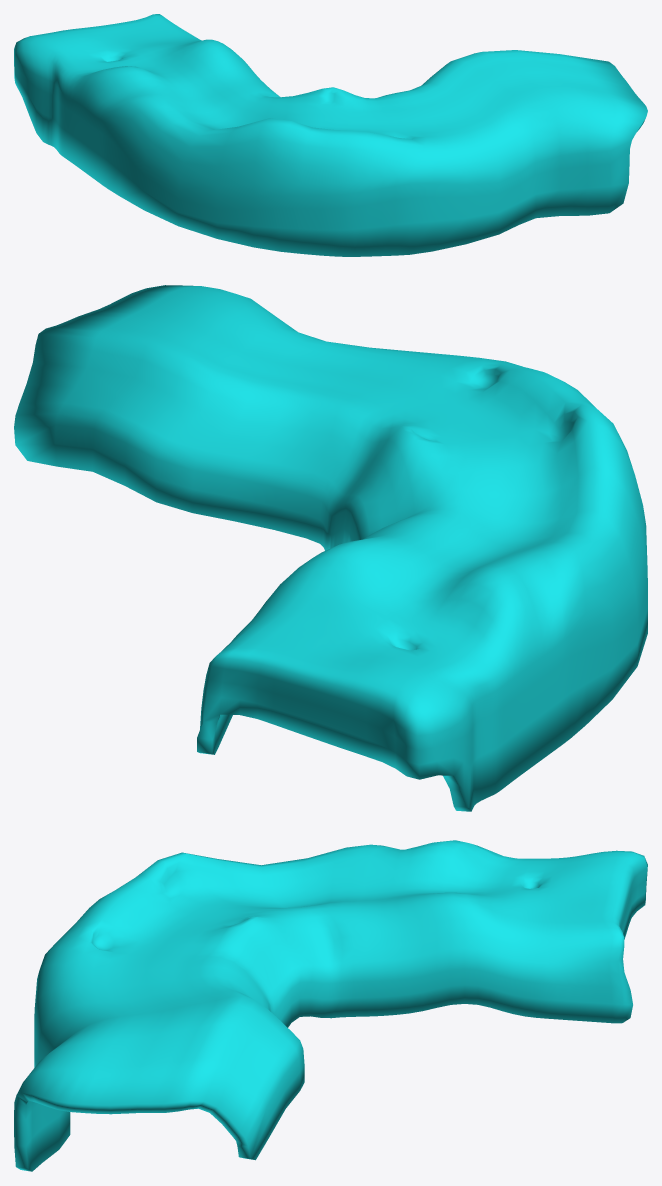
The model's file is IcePart.glb.
3 renders of one model, top to bottom at view 1: azimuth 30°, elevation 25°; view 2: azimuth 150°, elevation 25°; view 3: azimuth 270°, elevation 25°, orthographic. The views are drawn at different scales.
Visible parts, largest first — view 1: IcePath; view 2: IcePath; view 3: IcePath, InnerIce.
Boxes of the visible parts, box(x1,y1,x2,y2) form: IcePath: box(14, 14, 647, 256); IcePath: box(14, 285, 647, 811); IcePath: box(14, 840, 647, 1171); InnerIce: box(26, 1101, 70, 1171).
Size of the model in its own units: 44.65 by 11.67 by 45.43.
